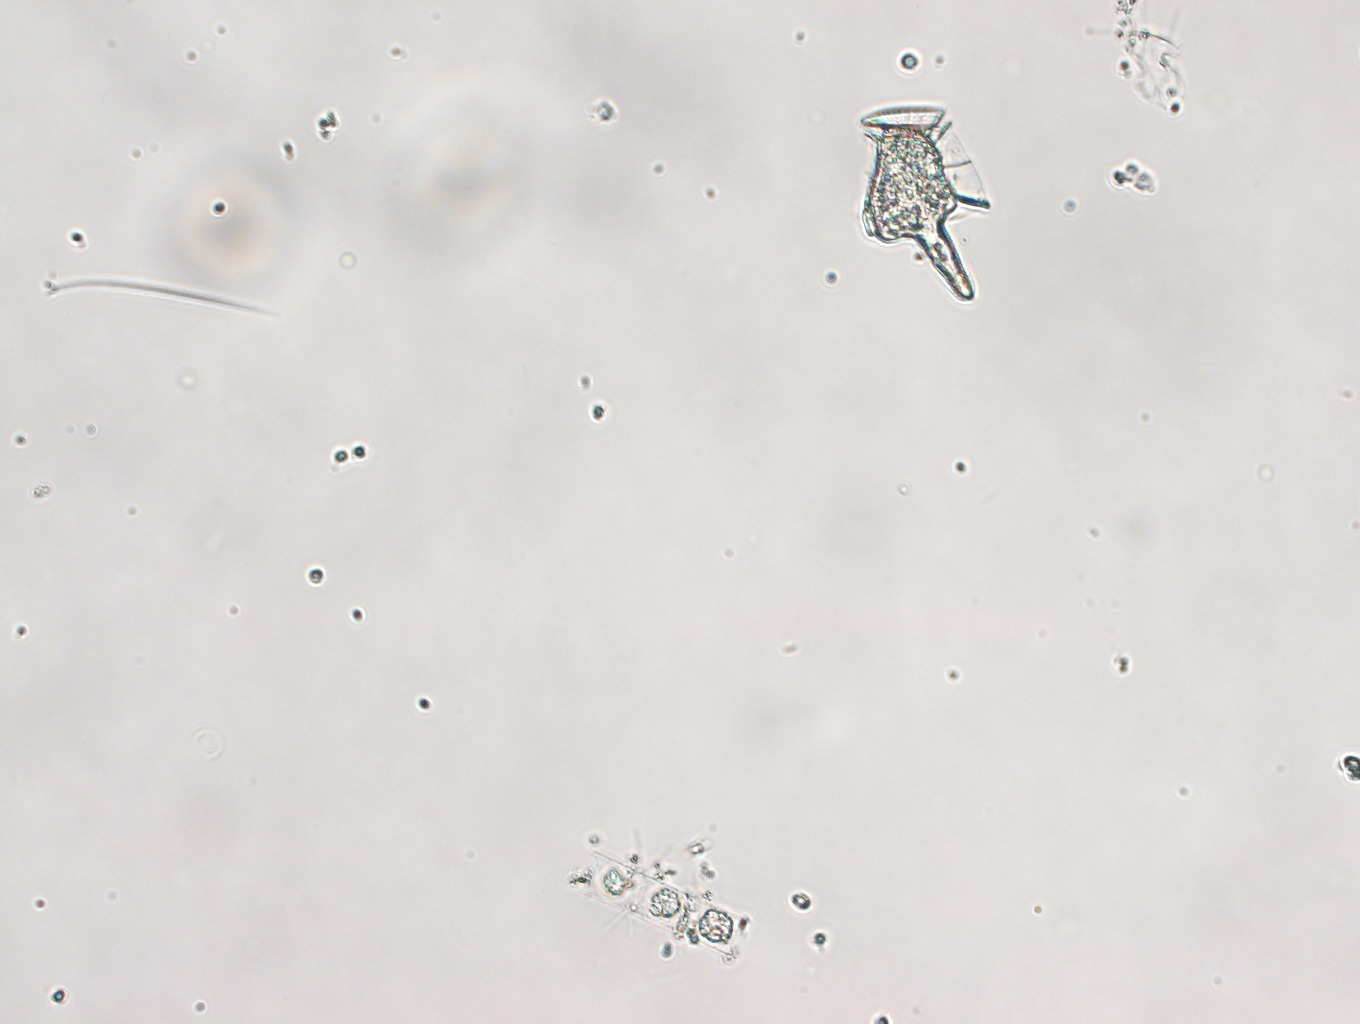chaetoceros: (556, 812, 769, 973)
dinophysis caudata: (845, 85, 993, 305)
